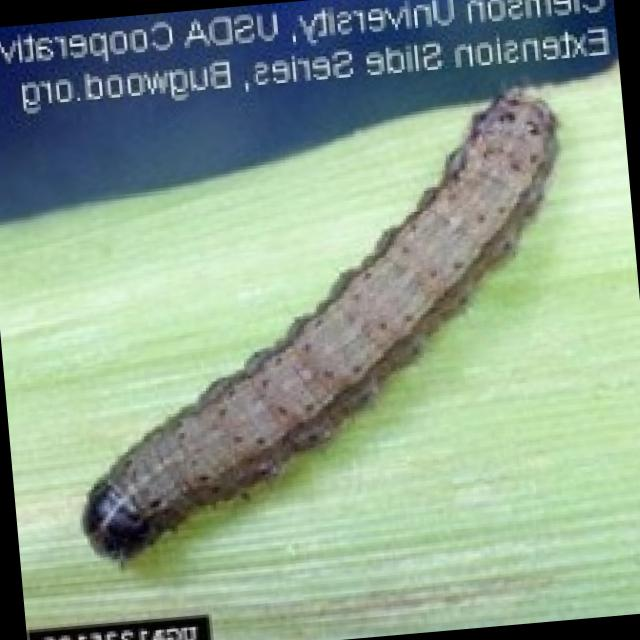armyworm: (18, 75, 616, 585)
